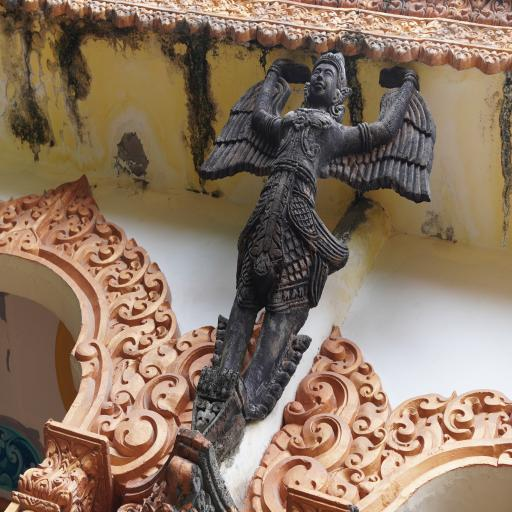hoa: (364, 11, 418, 40), (450, 21, 504, 49), (290, 3, 337, 31), (214, 0, 262, 24)
la: (98, 307, 256, 493), (255, 323, 391, 512), (0, 166, 98, 264), (446, 367, 512, 456), (386, 387, 450, 465), (113, 298, 179, 362), (108, 257, 168, 325), (98, 227, 152, 297), (78, 208, 127, 277), (68, 448, 98, 498), (478, 48, 510, 80), (420, 38, 450, 71), (450, 43, 479, 76), (39, 434, 61, 475), (390, 35, 419, 65), (258, 20, 284, 49), (308, 29, 336, 55), (284, 24, 310, 52), (338, 30, 364, 57), (364, 34, 390, 60), (157, 9, 184, 34), (114, 3, 138, 31), (90, 0, 114, 28), (137, 5, 158, 36), (232, 20, 258, 44), (185, 13, 209, 38), (67, 0, 91, 24), (209, 16, 232, 40), (34, 473, 52, 502), (15, 470, 32, 500), (56, 485, 74, 512), (45, 0, 67, 19)
than: (188, 45, 438, 449)
